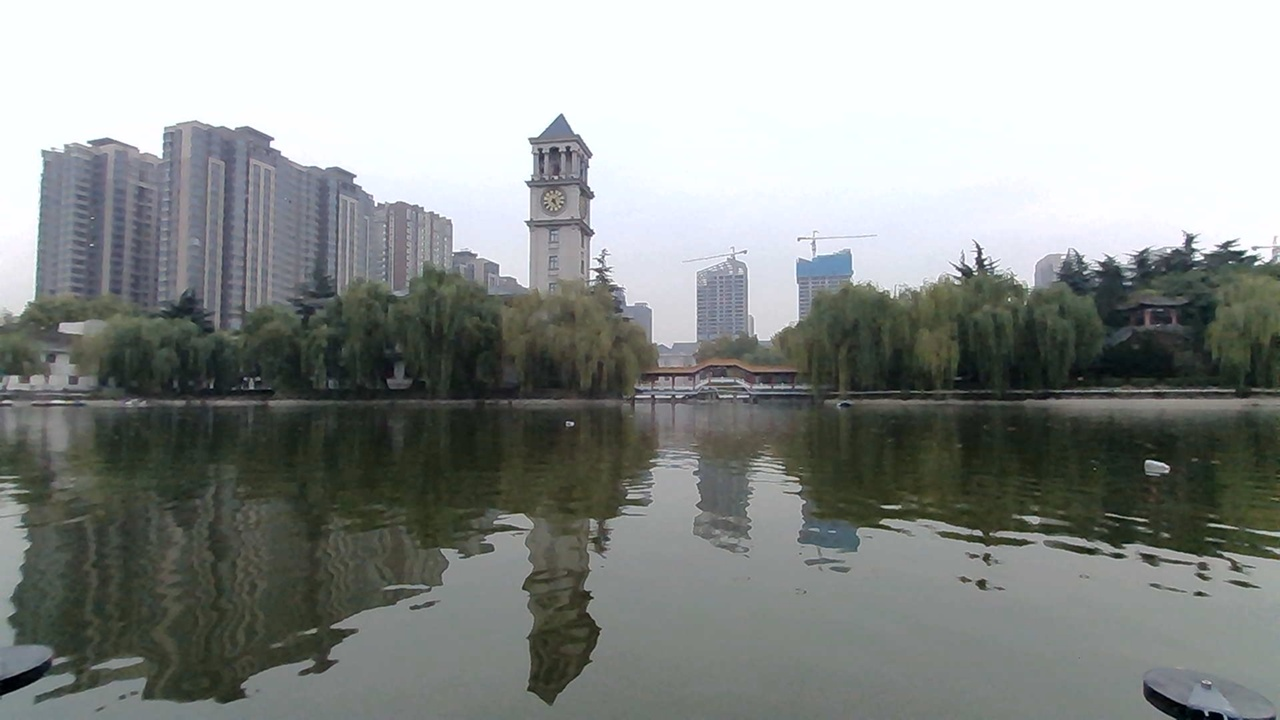bottle: (1139, 453, 1171, 474), (560, 415, 591, 436)
